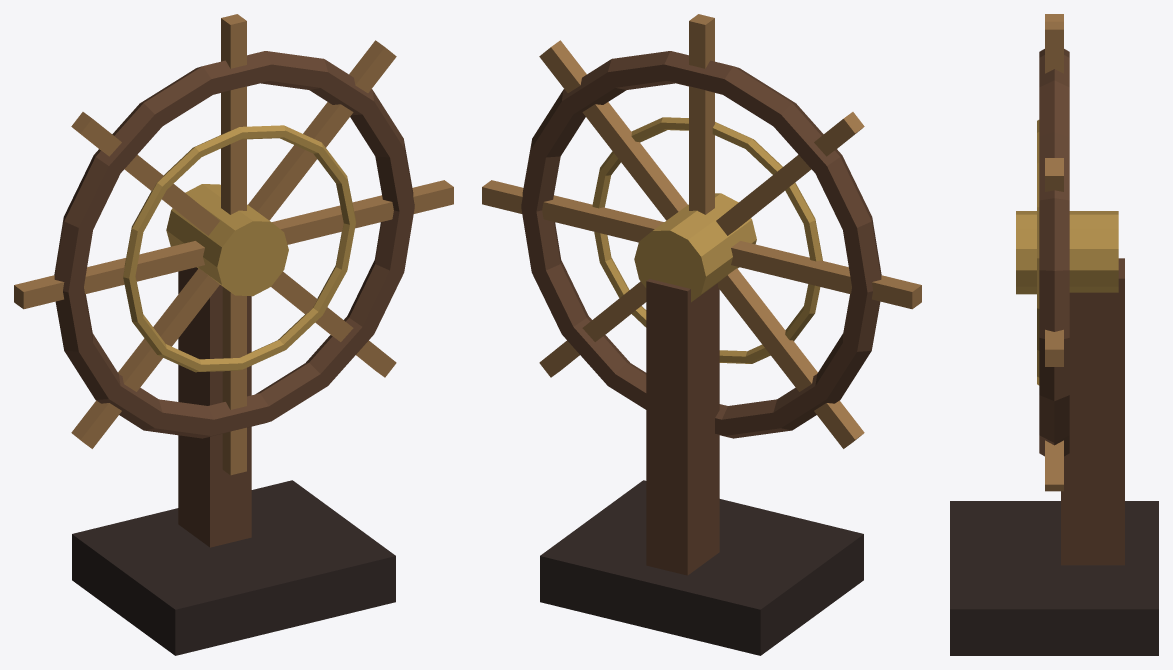
File: PirateCove_ShipWheel_Standard.glb
3 renders of one model, left to right at view 1: azimuth 30°, elevation 25°; view 2: azimuth 150°, elevation 25°; view 3: azimuth 270°, elevation 25°, orthographic.
Visible parts, largest first — view 1: PirateCove_ShipWheel_Standard; view 2: PirateCove_ShipWheel_Standard; view 3: PirateCove_ShipWheel_Standard.
Part boxes in pixels (x1=…): PirateCove_ShipWheel_Standard: x1=14, y1=14, x2=453, y2=655; PirateCove_ShipWheel_Standard: x1=482, y1=14, x2=921, y2=655; PirateCove_ShipWheel_Standard: x1=950, y1=14, x2=1158, y2=655.
Bounding box in the file's own units: 1.56 × 1.98 × 0.65.
